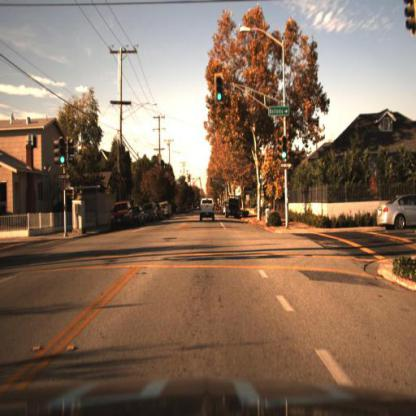car: (378, 192, 416, 235), (107, 197, 132, 235), (198, 195, 218, 225), (226, 195, 245, 226), (143, 200, 161, 223), (131, 205, 147, 229), (145, 201, 158, 228), (133, 204, 146, 230), (164, 200, 173, 221), (159, 201, 167, 224)
trafficLight-Green: (280, 134, 291, 163), (279, 141, 291, 167), (57, 147, 67, 169), (215, 89, 224, 107)
